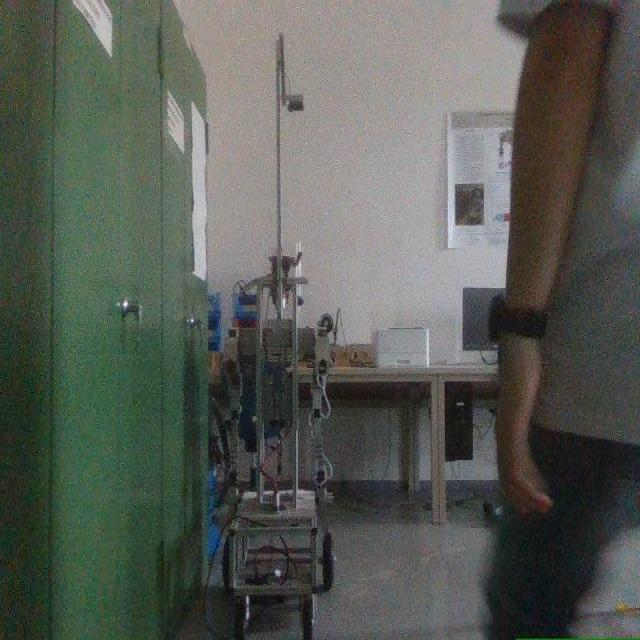humans: (485, 0, 639, 639)
objects: (221, 204, 333, 639)
